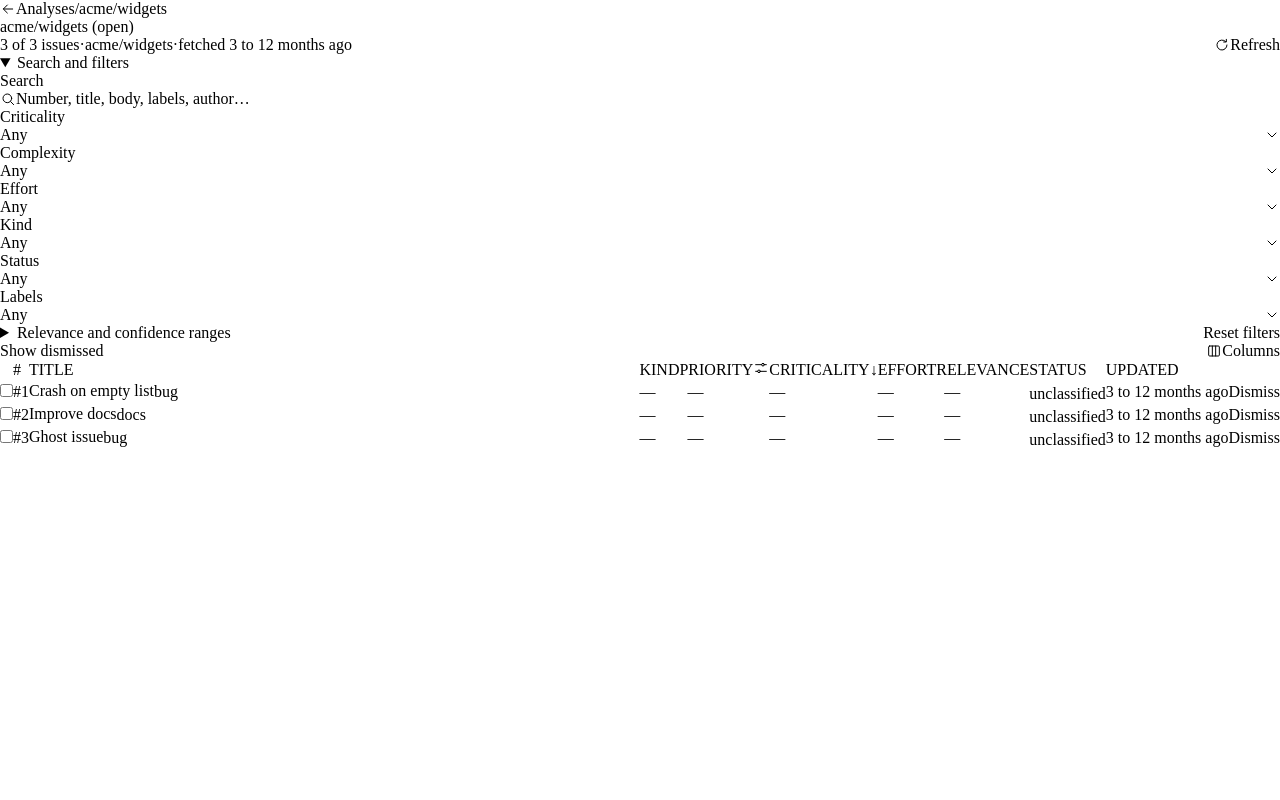
Scenario: IssuesContainer › opens the detail drawer for a row and closes it
Click the row with test id "issue-row" that starts with "Crash on empty list" at coordinates (640, 392), box [0,380,1279,403]
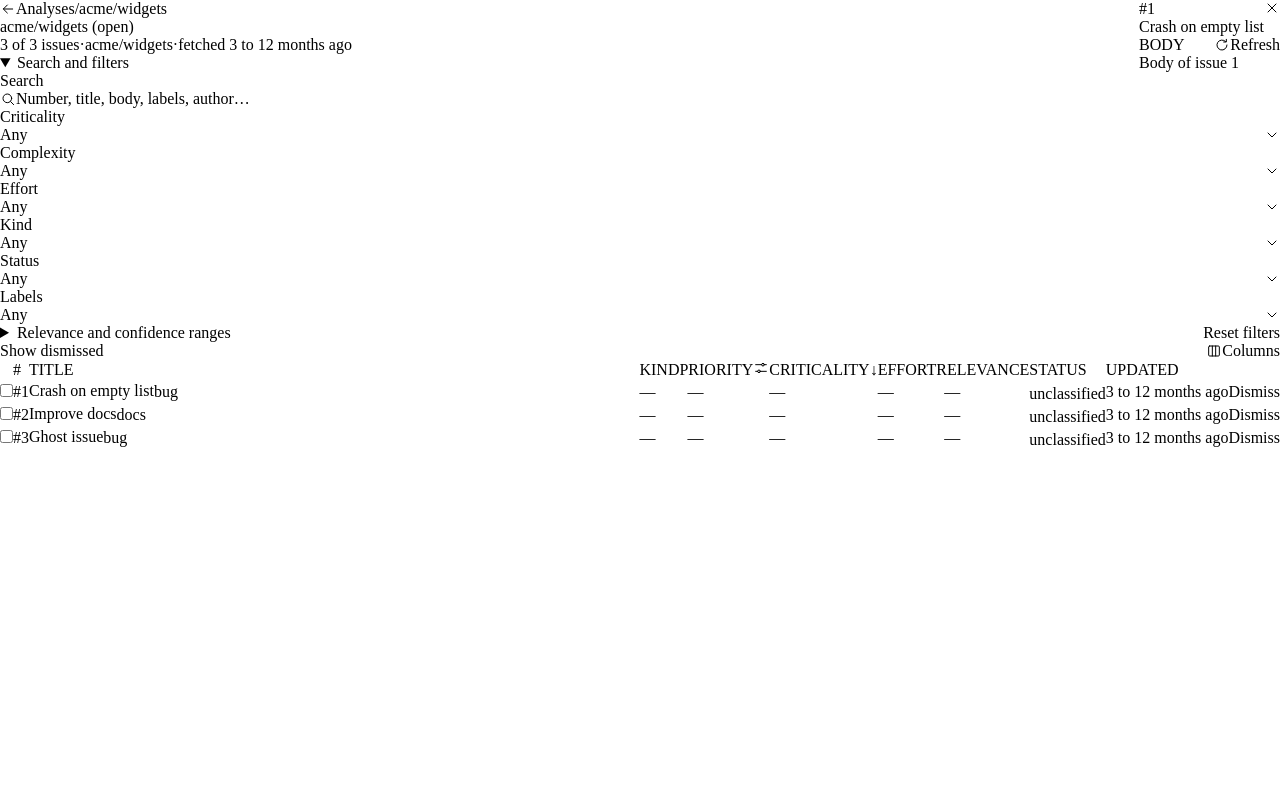
Check: the dialog shows "Crash on empty list", box [1139,18,1264,35]
Click the button with test id "drawer-close" at coordinates (1272, 8), box [1264,0,1279,16]
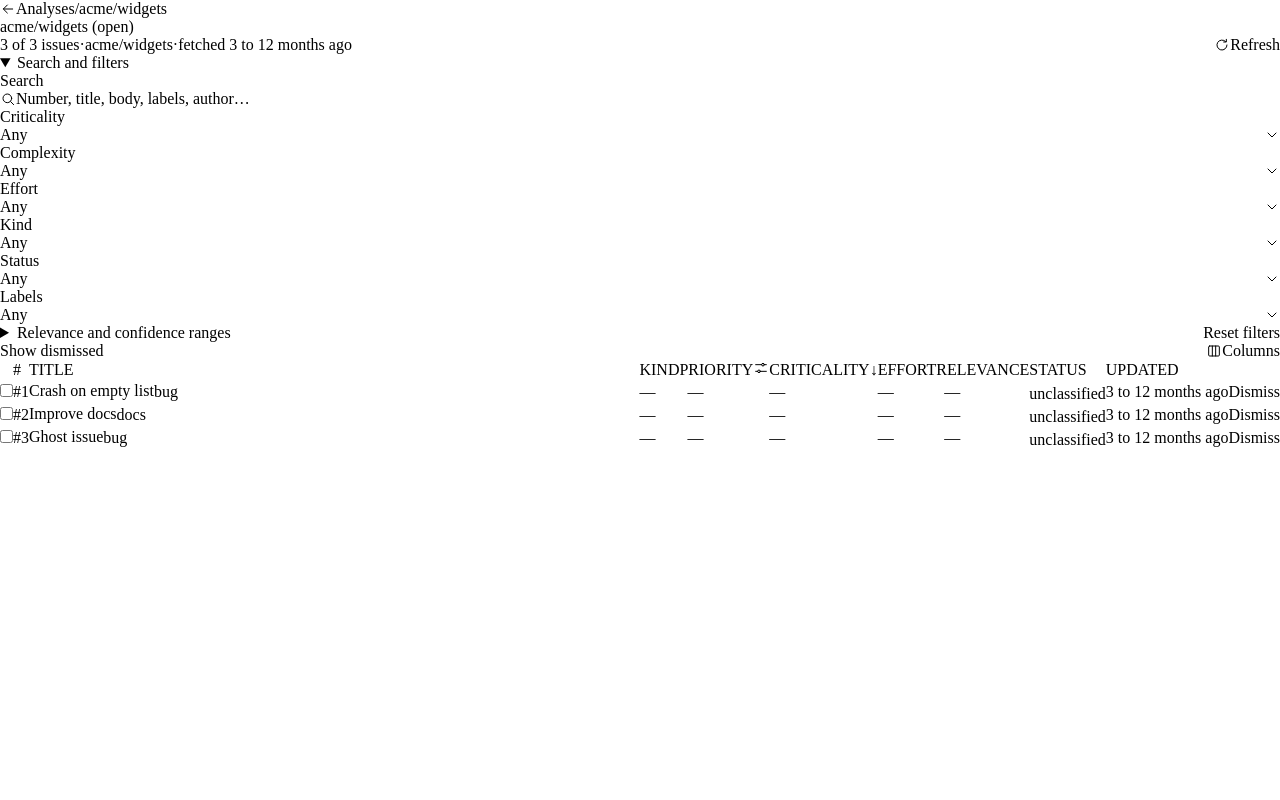
Check: the dialog is gone
